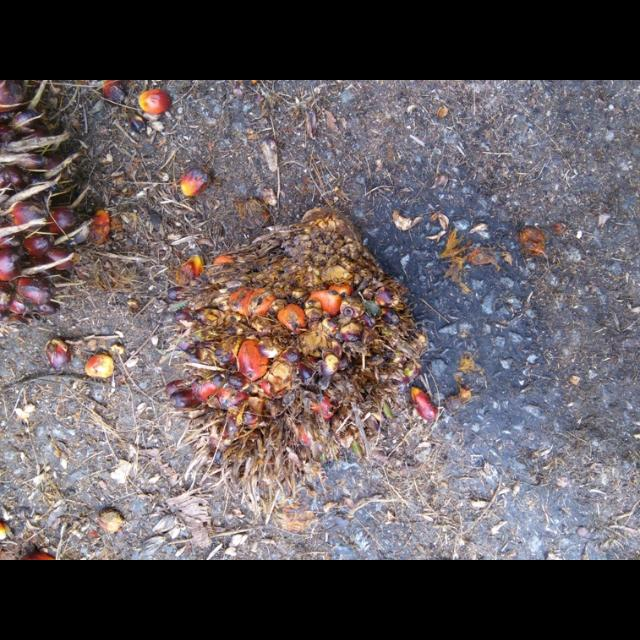Overripe: (165, 207, 430, 484)
